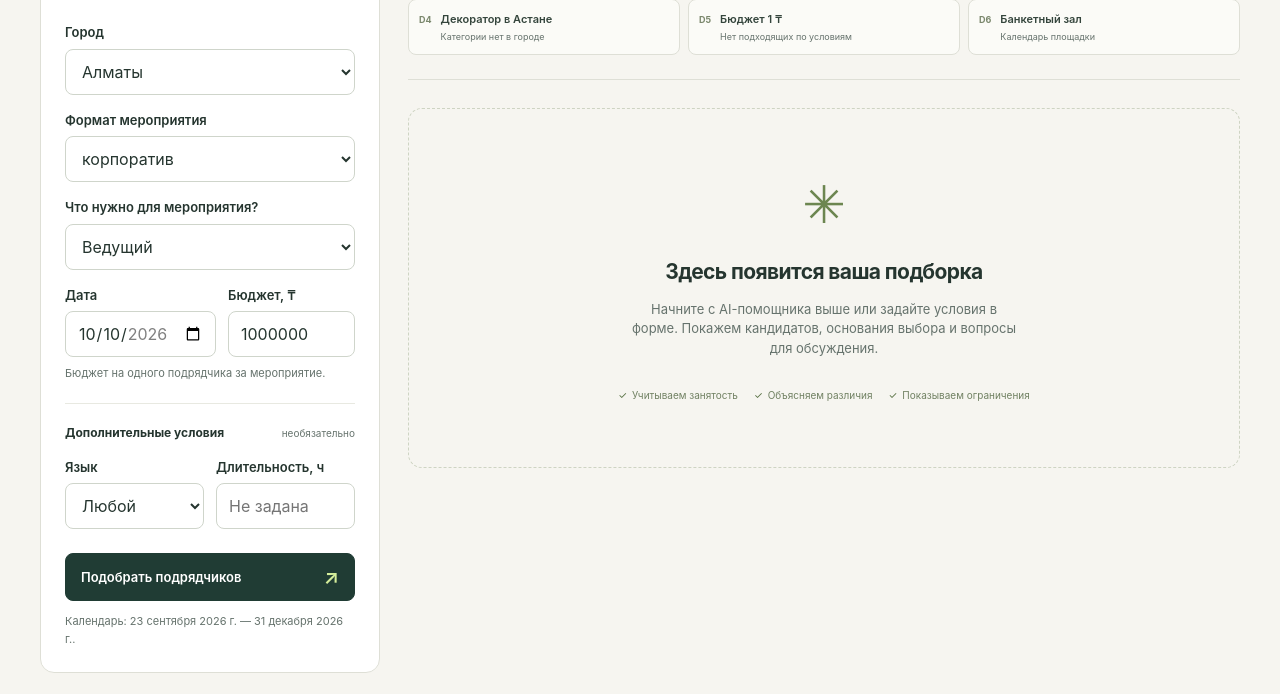
Test case: Firebird UI contract › validates Бюджет, ₸=-1 without requesting recommendations
(page scrolled)
Expected: the button "Подобрать подрядчиков ↗" is enabled, [65, 553, 355, 601]
Replace the text in the number field labelled "Бюджет, ₸" with "-1": coordinates (292, 334) [228, 311, 355, 357]
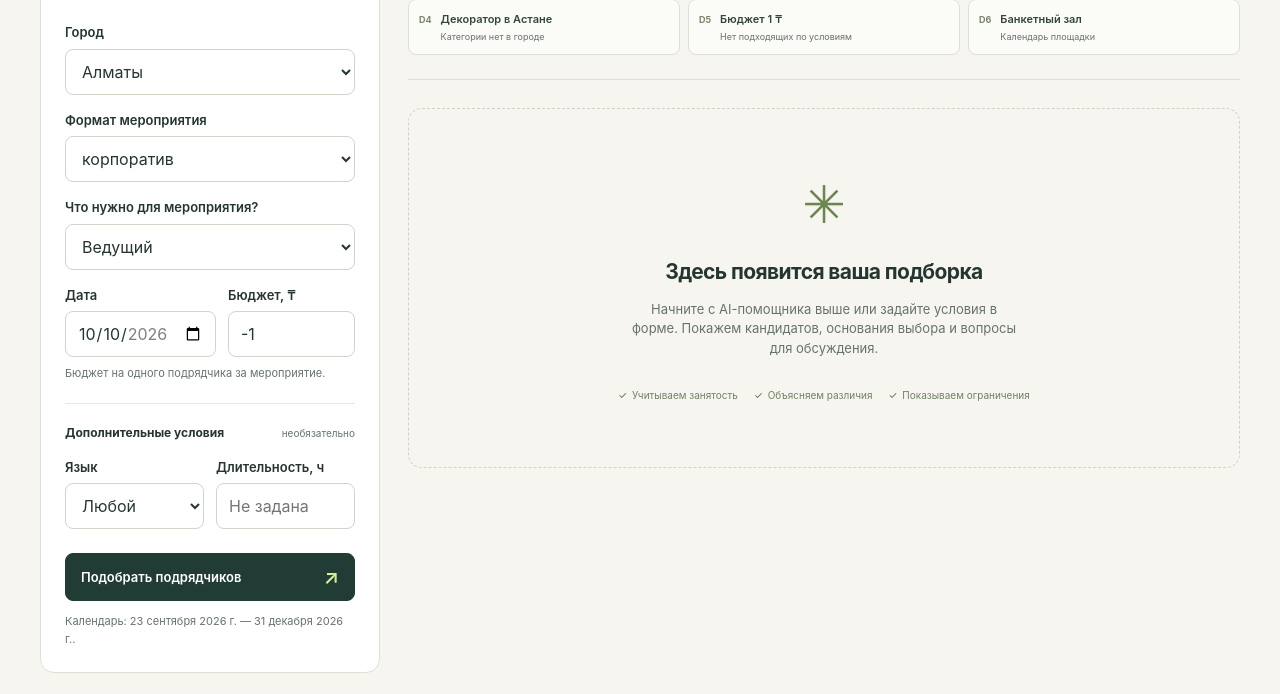
Click the button "Подобрать подрядчиков ↗": coordinates (210, 577) [65, 553, 355, 601]
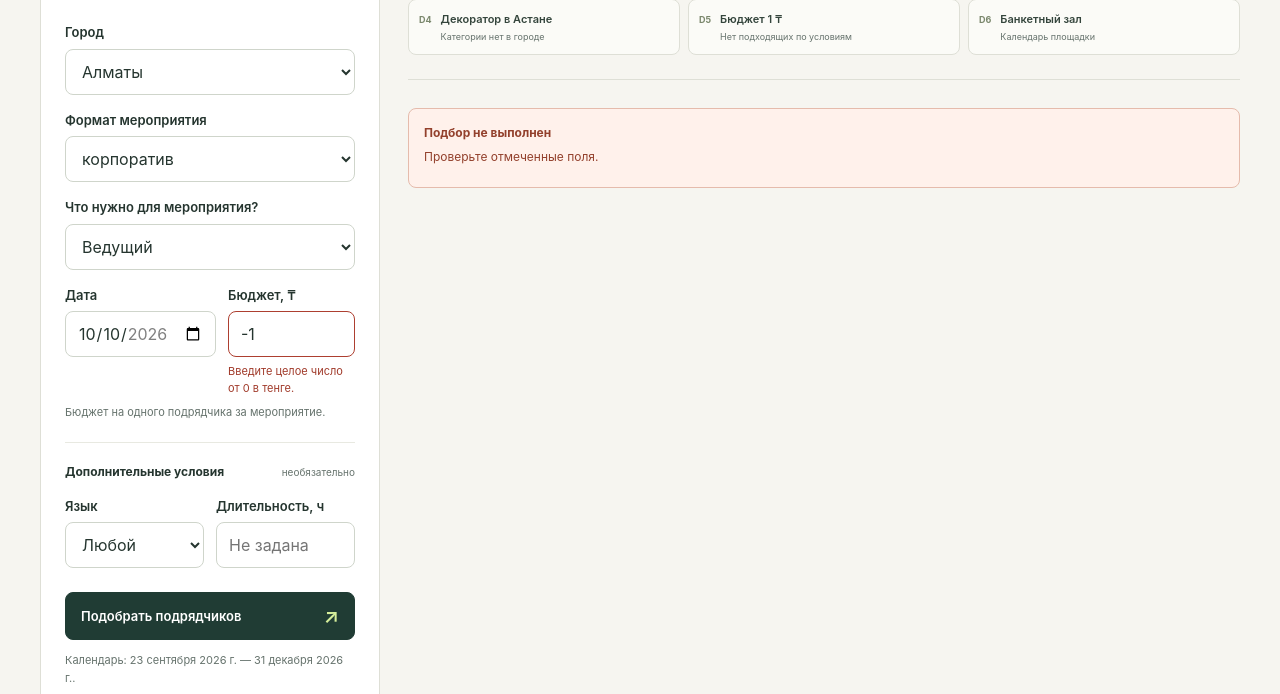
Result: the message "Подбор не выполнен Проверьте отмеченные поля." is shown at [408, 108, 1240, 188]
